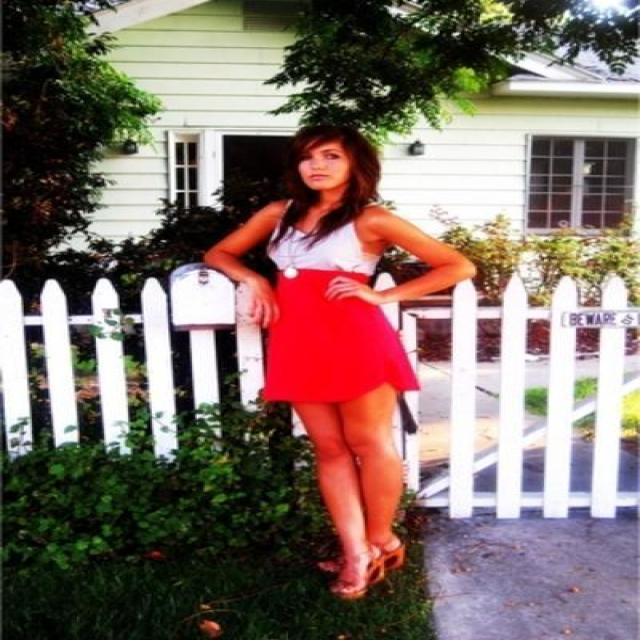shirt: (267, 218, 394, 300)
shoe: (341, 550, 374, 596)
skirt: (255, 272, 418, 411)
